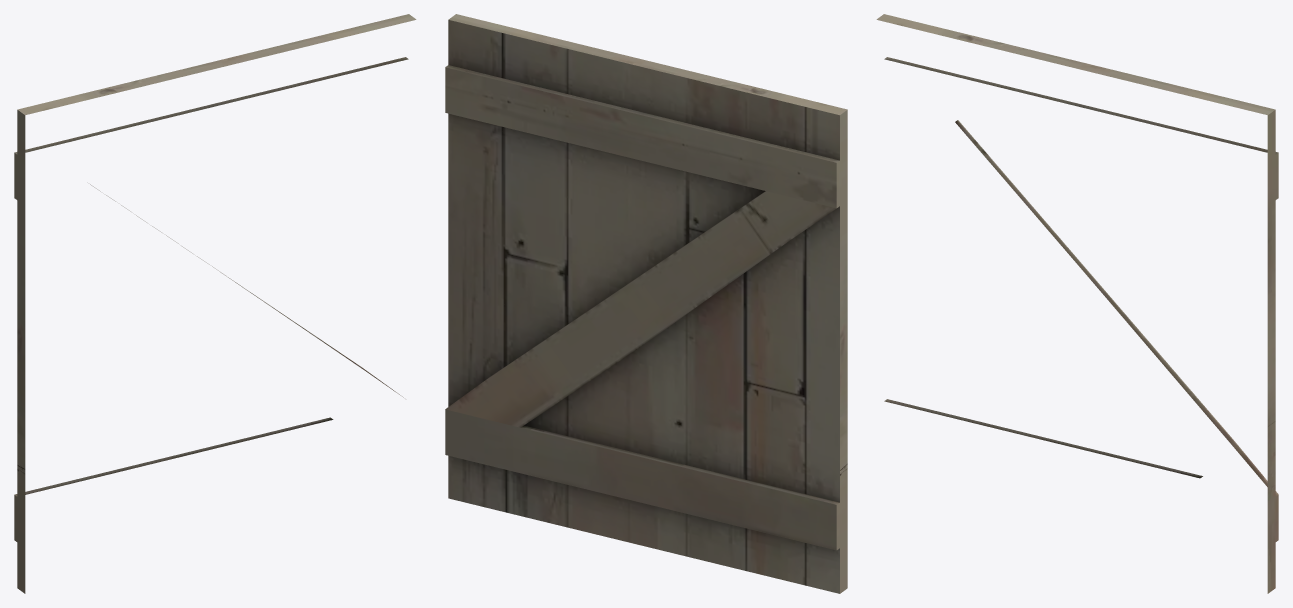
3 renders of one model, left to right at view 1: azimuth 30°, elevation 25°; view 2: azimuth 150°, elevation 25°; view 3: azimuth 330°, elevation 25°, orthographic.
Visible parts, largest first — view 1: body0_model0_lod0_mesh0; view 2: body0_model0_lod0_mesh0; view 3: body0_model0_lod0_mesh0.
Part boxes in pixels (x1,y1,x2,y2): body0_model0_lod0_mesh0: (14,14,416,593); body0_model0_lod0_mesh0: (445,14,847,593); body0_model0_lod0_mesh0: (876,14,1278,593).
Bounding box in the file's own units: 72.01 × 84.1 × 3.5.
1 material, 1 textured.
